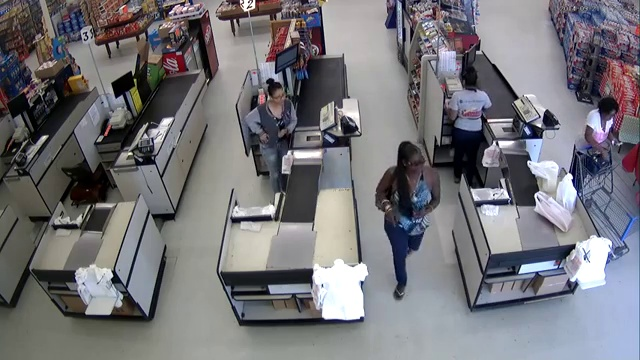face: (405, 157, 425, 175), (270, 90, 286, 105)
